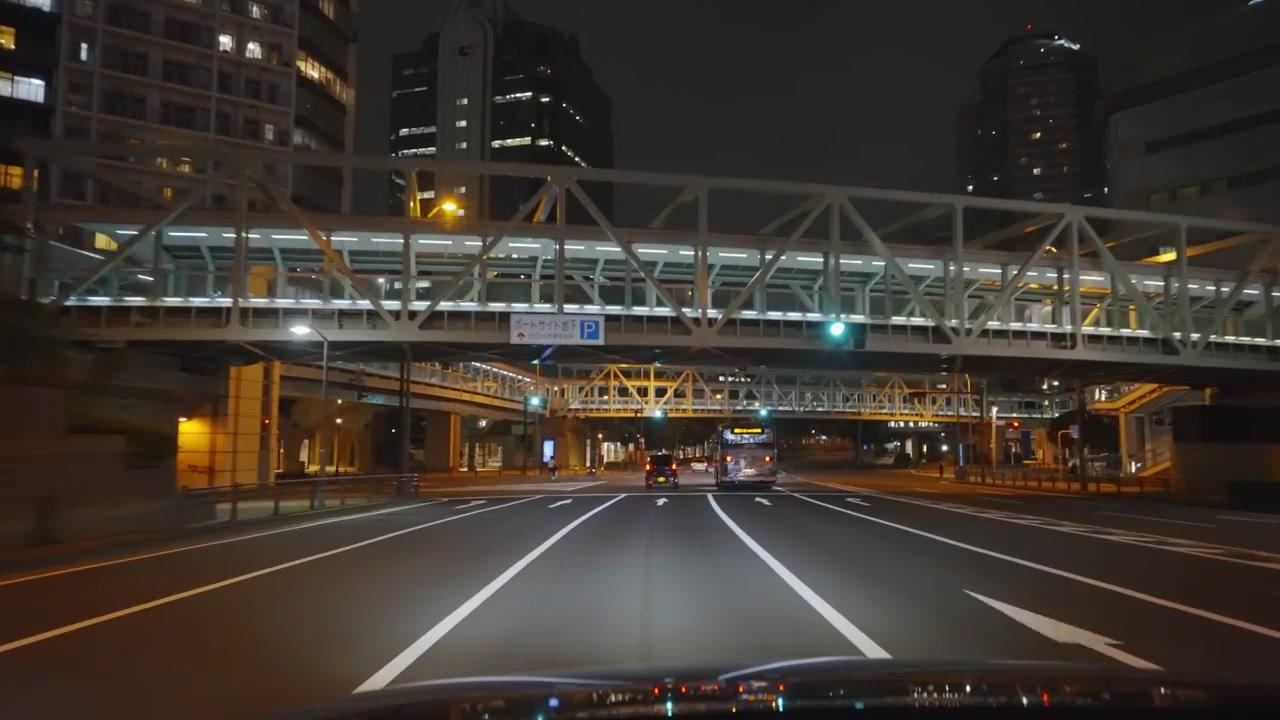bus: (717, 426, 777, 489)
car: (645, 451, 679, 488)
traffic light: (826, 318, 850, 344), (773, 681, 787, 713), (524, 393, 545, 411)
